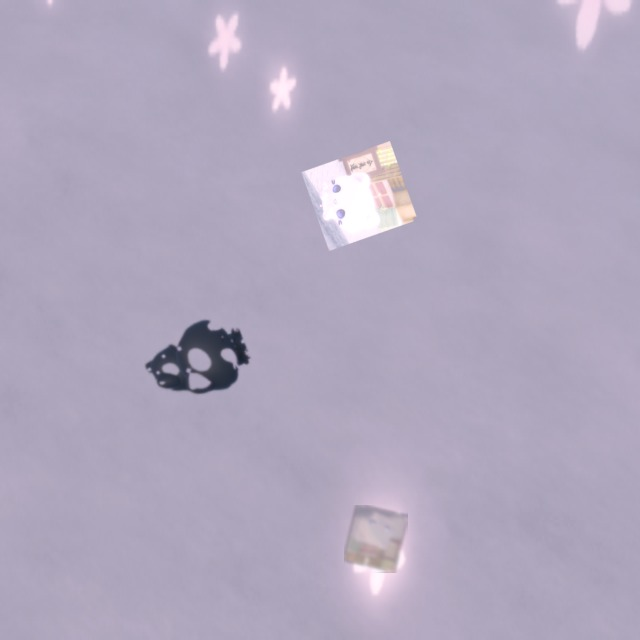urso_branco: (301, 141, 418, 251), (344, 505, 408, 573)
urso_preto: (128, 302, 259, 419)
